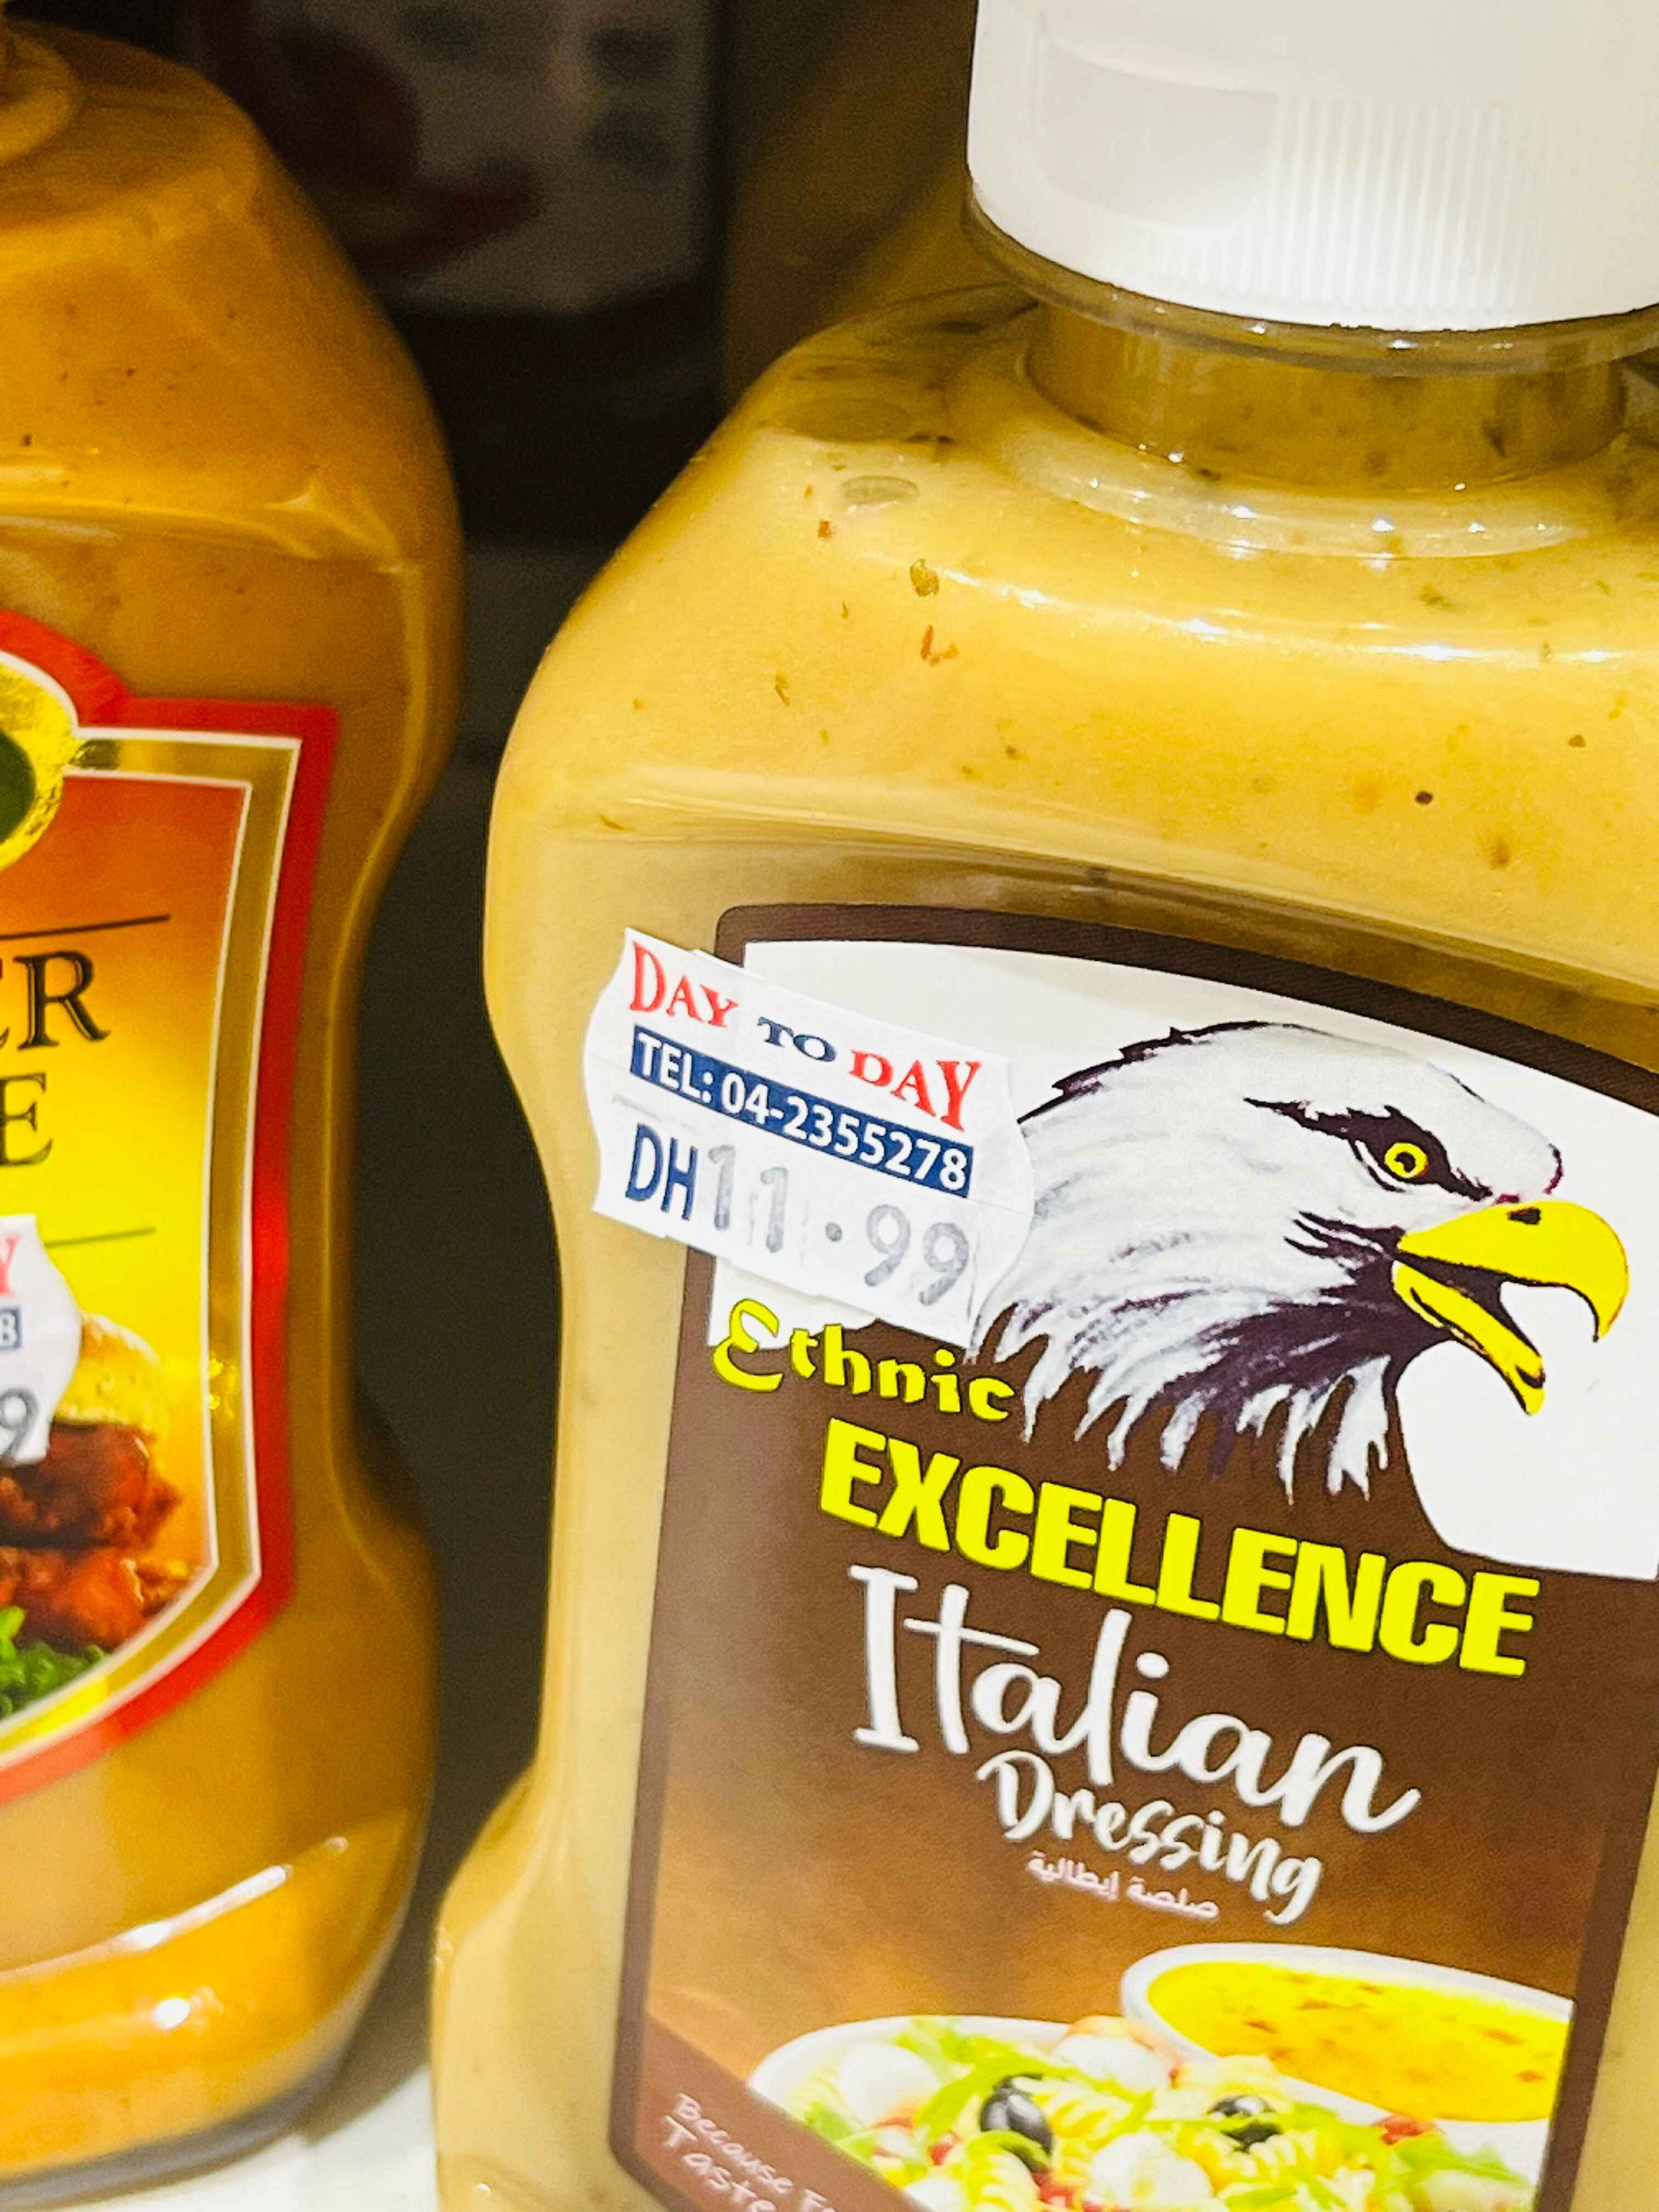PriceTagSmall: (584, 932, 1037, 1371)
